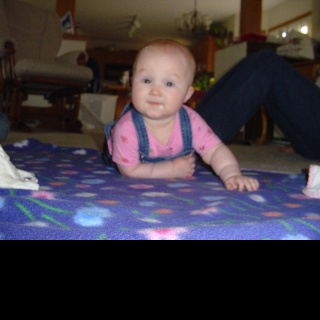without_mask: (130, 52, 189, 119)
